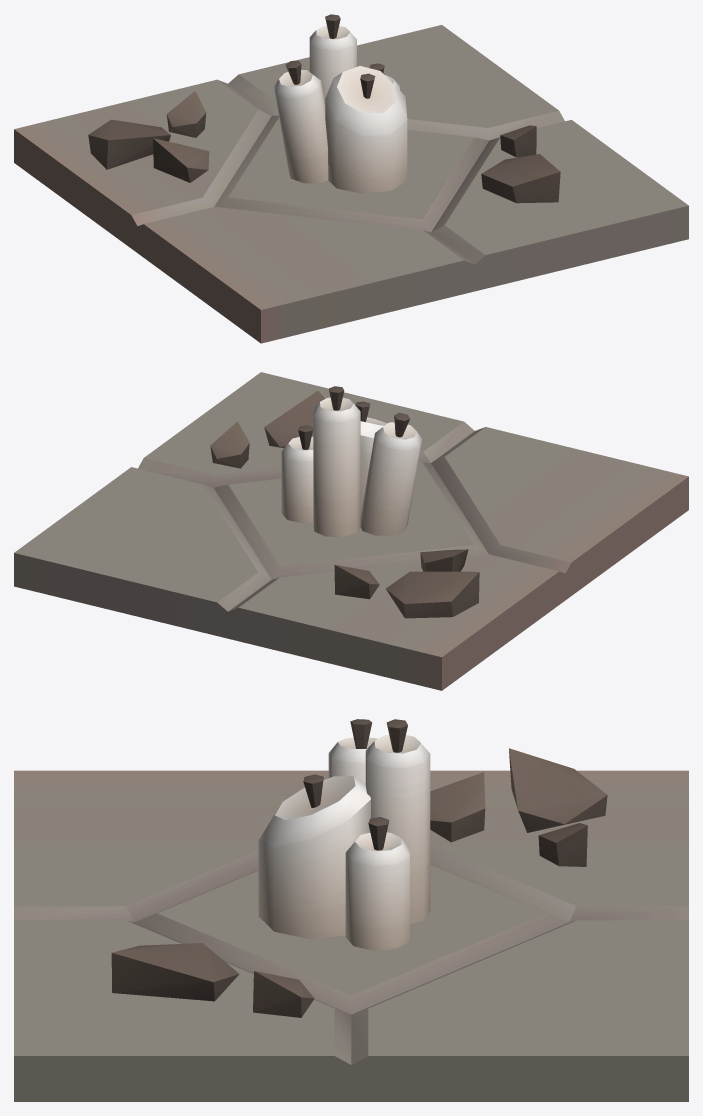
Rendered from floor_tile_small_decorated.glb.
3 renders of one model, top to bottom at view 1: azimuth 30°, elevation 25°; view 2: azimuth 150°, elevation 25°; view 3: azimuth 270°, elevation 25°, orthographic. The views are drawn at different scales.
Visible parts, largest first — view 1: floor_tile_small_decorated; view 2: floor_tile_small_decorated; view 3: floor_tile_small_decorated.
Part boxes in pixels (bbox=[...]): floor_tile_small_decorated: bbox=[14, 14, 688, 343]; floor_tile_small_decorated: bbox=[14, 372, 688, 690]; floor_tile_small_decorated: bbox=[14, 719, 688, 1101].
Size of the model in its own units: 2 by 0.773 by 2.
Materials: 1 (1 with a texture image).
